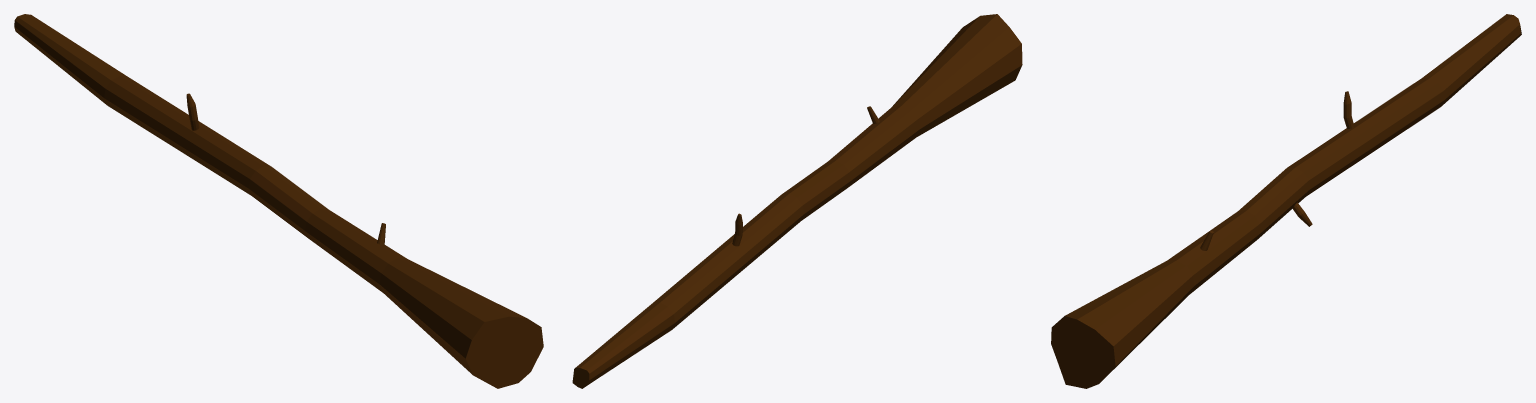
Rendered from fallen_log_variant5.fbx.
3 views of the same model, side by side, from view 1: azimuth 30°, elevation 25°; view 2: azimuth 150°, elevation 25°; view 3: azimuth 330°, elevation 25° (orthographic). The views are drawn at different scales.
Visible parts, largest first — view 1: Cylinder.001; view 2: Cylinder.001; view 3: Cylinder.001.
Boxes of the visible parts, x1,y1,x2,y2 form: Cylinder.001: (14, 14, 543, 388); Cylinder.001: (572, 14, 1022, 388); Cylinder.001: (1051, 14, 1521, 388).
Size of the model in its own units: 31.32 by 32.72 by 351.
